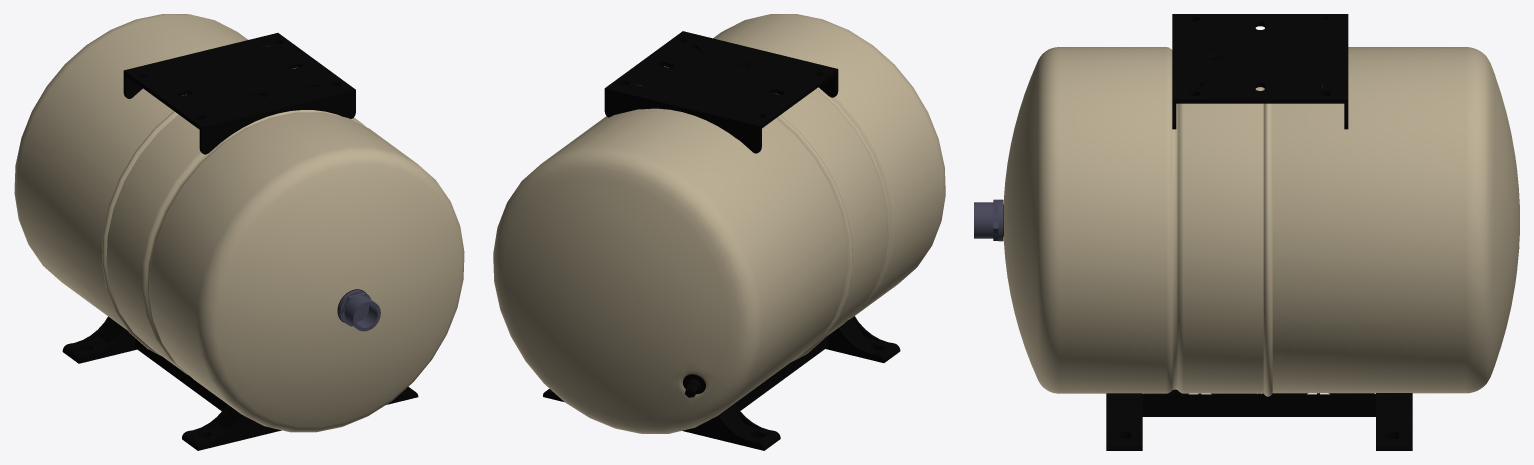
Rendered from 50lt-sabit-tank-yatay.obj.
3 views of the same model, side by side, from view 1: azimuth 30°, elevation 25°; view 2: azimuth 150°, elevation 25°; view 3: azimuth 270°, elevation 25° (orthographic). The views are drawn at different scales.
Visible parts, largest first — view 1: 50lt-sabit-tank-yatay.002, 50lt-sabit-tank-yatay.011, 50lt-sabit-tank-yatay.001, 50lt-sabit-tank-yatay, 50lt-sabit-tank-yatay.004, 50lt-sabit-tank-yatay.009; view 2: 50lt-sabit-tank-yatay.011, 50lt-sabit-tank-yatay.002, 50lt-sabit-tank-yatay.001, 50lt-sabit-tank-yatay, 50lt-sabit-tank-yatay.004; view 3: 50lt-sabit-tank-yatay.002, 50lt-sabit-tank-yatay.011, 50lt-sabit-tank-yatay.001, 50lt-sabit-tank-yatay, 50lt-sabit-tank-yatay.004, 50lt-sabit-tank-yatay.009.
Boxes of the visible parts, x1,y1,x2,y2 form: 50lt-sabit-tank-yatay.002: (106,110,464,432); 50lt-sabit-tank-yatay.011: (14,14,247,330); 50lt-sabit-tank-yatay.001: (123,33,355,154); 50lt-sabit-tank-yatay: (62,316,418,450); 50lt-sabit-tank-yatay.004: (102,111,178,355); 50lt-sabit-tank-yatay.009: (338,290,380,331); 50lt-sabit-tank-yatay.011: (493,108,847,433); 50lt-sabit-tank-yatay.002: (713,14,945,336); 50lt-sabit-tank-yatay.001: (604,31,838,153); 50lt-sabit-tank-yatay: (543,316,900,450); 50lt-sabit-tank-yatay.004: (776,115,852,361); 50lt-sabit-tank-yatay.002: (1004,47,1263,393); 50lt-sabit-tank-yatay.011: (1272,47,1519,393); 50lt-sabit-tank-yatay.001: (1172,14,1348,129); 50lt-sabit-tank-yatay: (1106,389,1412,450); 50lt-sabit-tank-yatay.004: (1263,88,1272,396); 50lt-sabit-tank-yatay.009: (974,199,1003,241).
Bounding box in the file's own units: 4.43 × 4.63 × 6.86.
